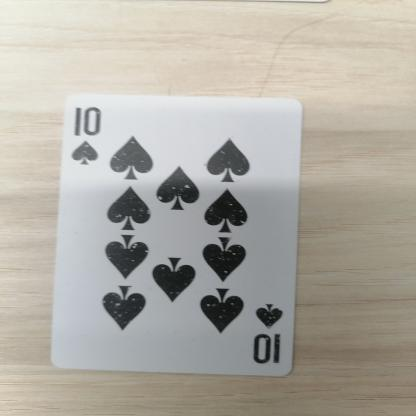10S: (54, 105, 112, 176), (249, 291, 287, 371)
